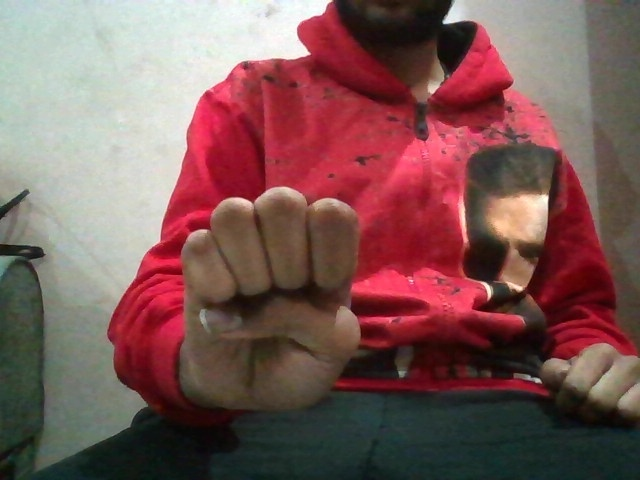E: (155, 180, 396, 416)
